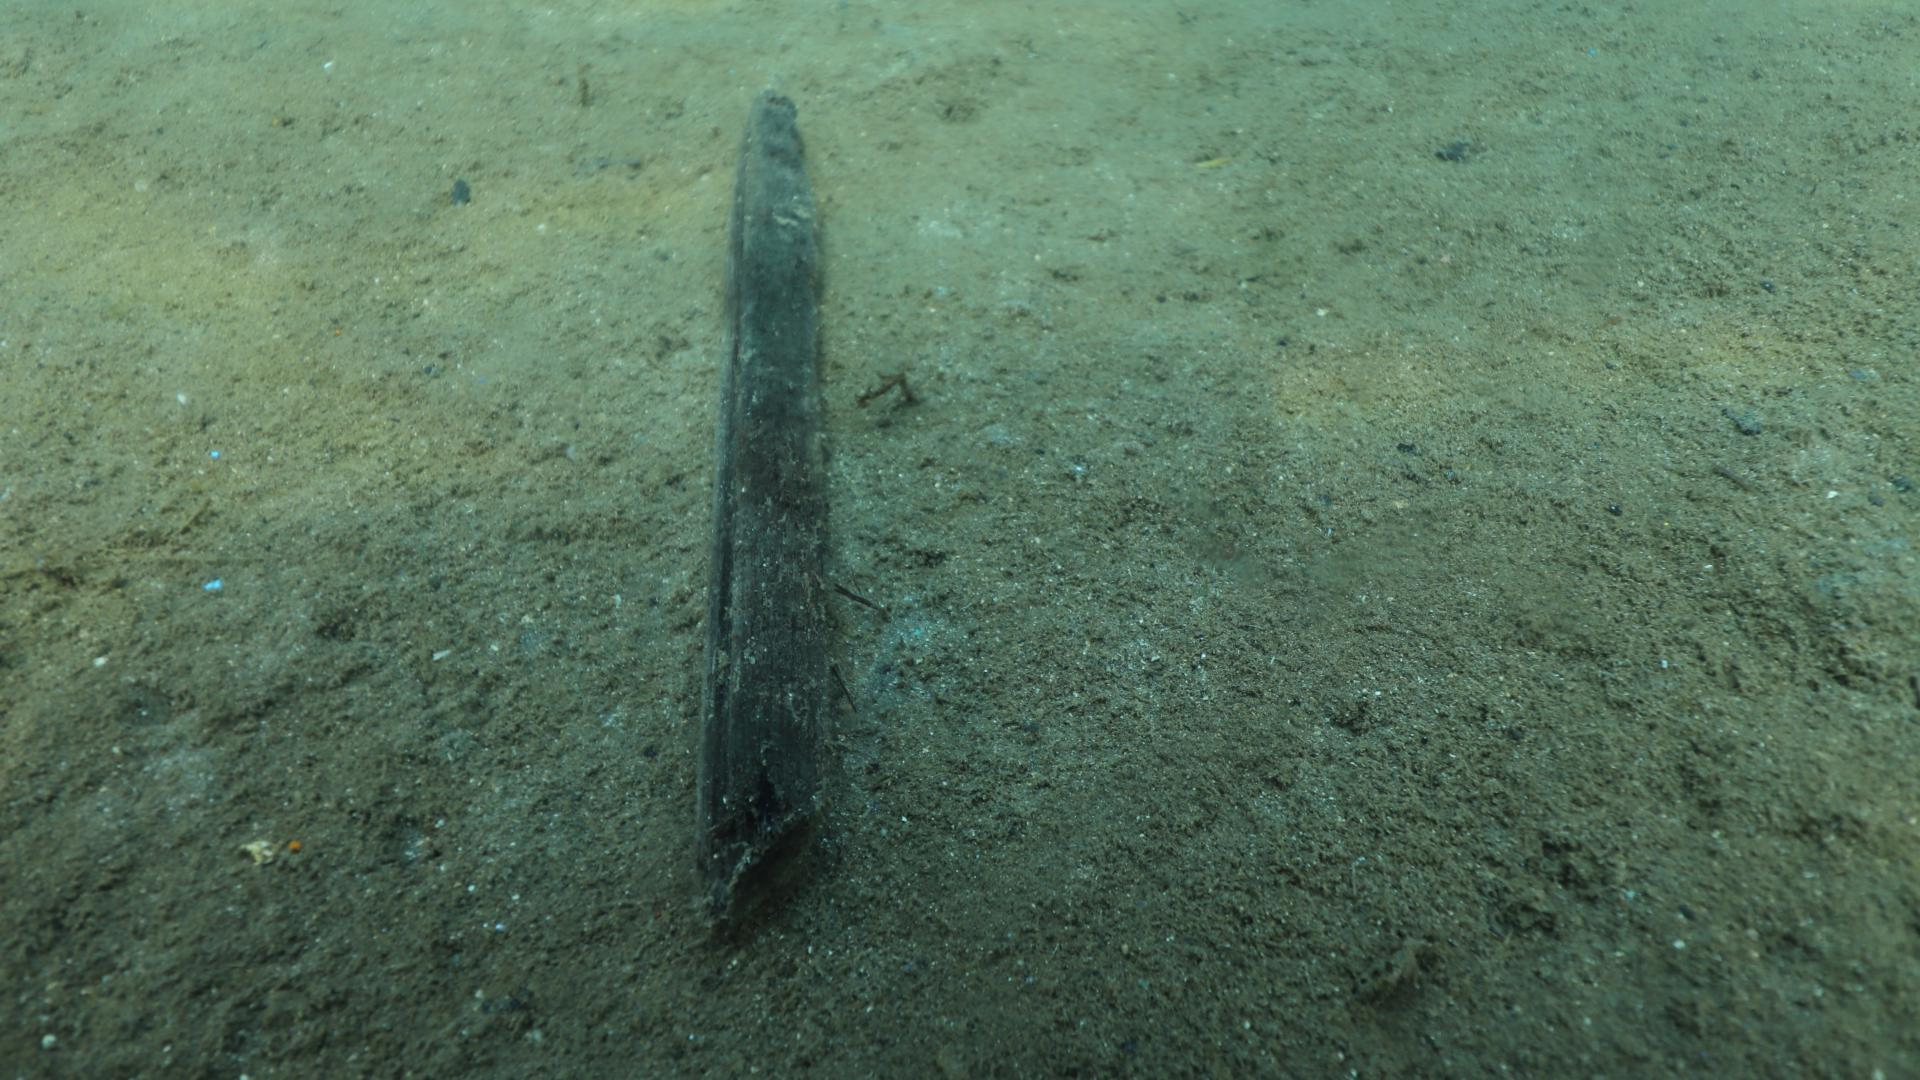wood: (691, 88, 833, 949)
